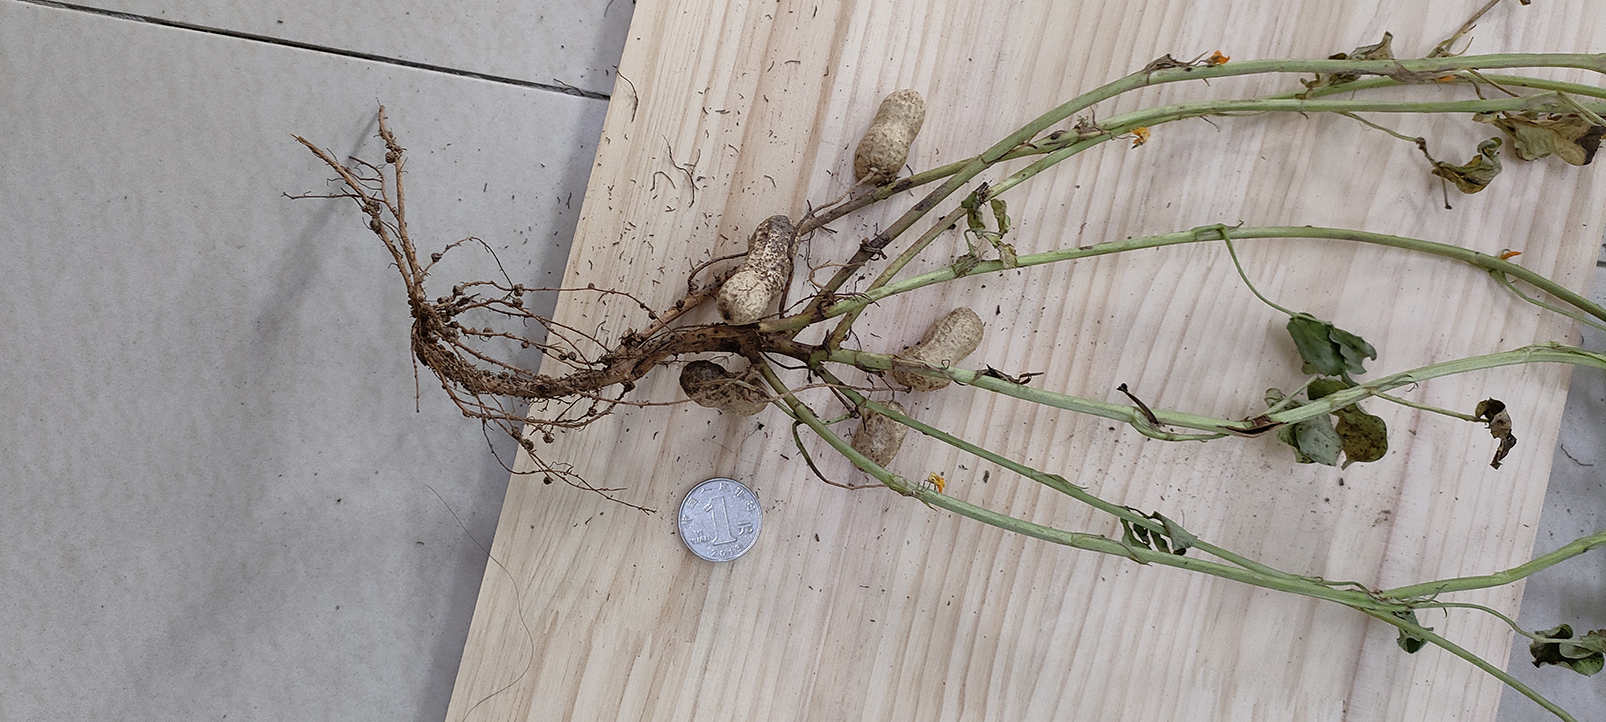h: (717, 214, 794, 326), (891, 308, 984, 389), (853, 88, 926, 183), (851, 404, 908, 466)
l: (679, 360, 768, 414)
